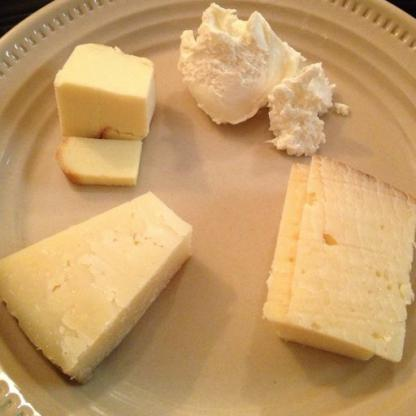mozarella cheese: (179, 6, 330, 156)
parmesan cheese: (0, 191, 190, 380), (267, 152, 415, 361), (52, 46, 157, 187)
